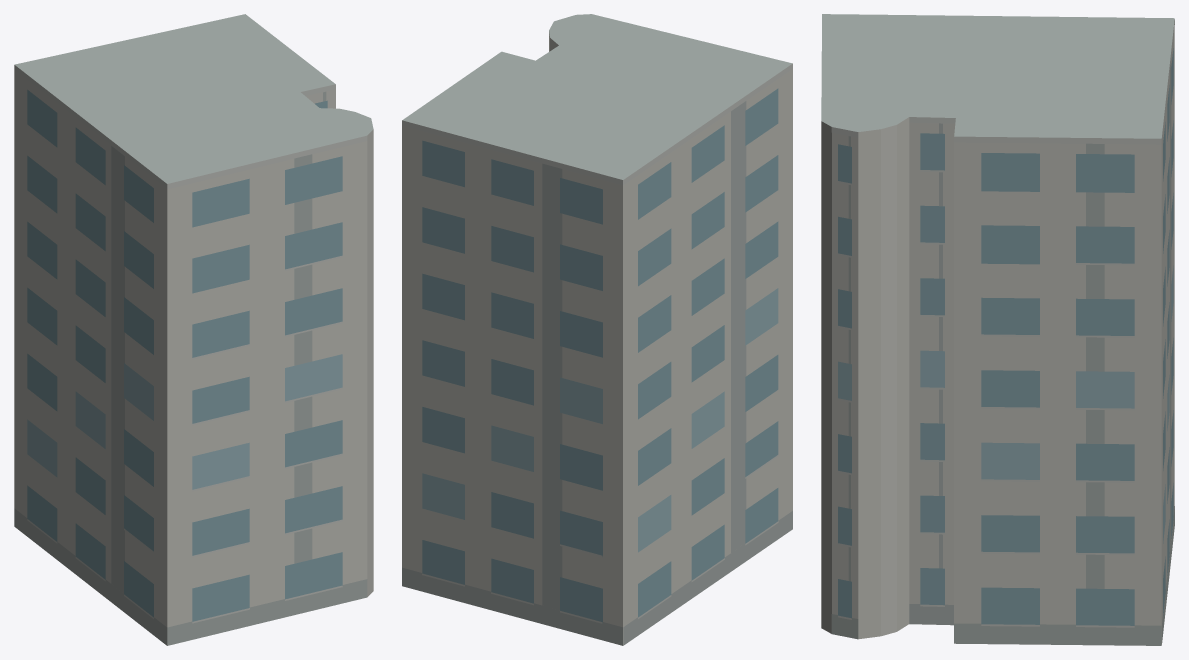
File: survey-upis-32826592.glb
3 renders of one model, left to right at view 1: azimuth 30°, elevation 25°; view 2: azimuth 150°, elevation 25°; view 3: azimuth 270°, elevation 25°, orthographic. The views are drawn at different scales.
Parts seen in each view (by area): view 1: survey-upis-32826592.tmp; view 2: survey-upis-32826592.tmp; view 3: survey-upis-32826592.tmp.
Boxes of the visible parts, box(x1,y1,x2,y2) form: survey-upis-32826592.tmp: box(14, 14, 373, 645); survey-upis-32826592.tmp: box(402, 14, 792, 645); survey-upis-32826592.tmp: box(821, 14, 1174, 645).
Bounding box in the file's own units: 11.27 × 21.35 × 13.5.
